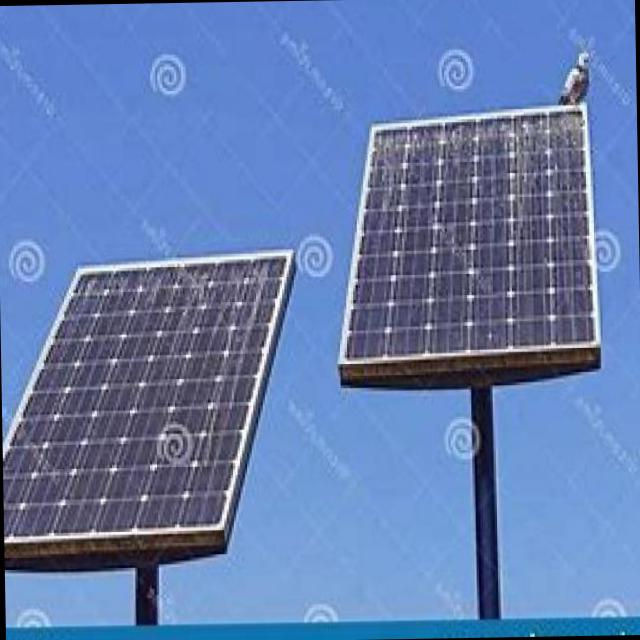faulty: (358, 106, 588, 366), (43, 260, 236, 532)
